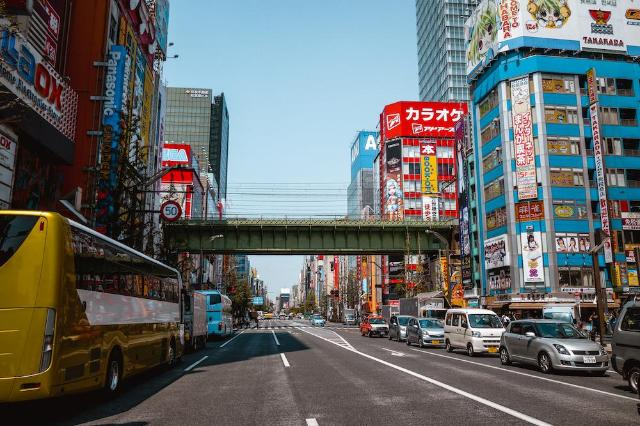bus: (0, 209, 188, 403), (196, 292, 234, 339)
car: (500, 314, 607, 378), (404, 317, 446, 349), (390, 315, 416, 343), (359, 316, 388, 338), (312, 317, 326, 326)
van: (445, 307, 504, 358)
